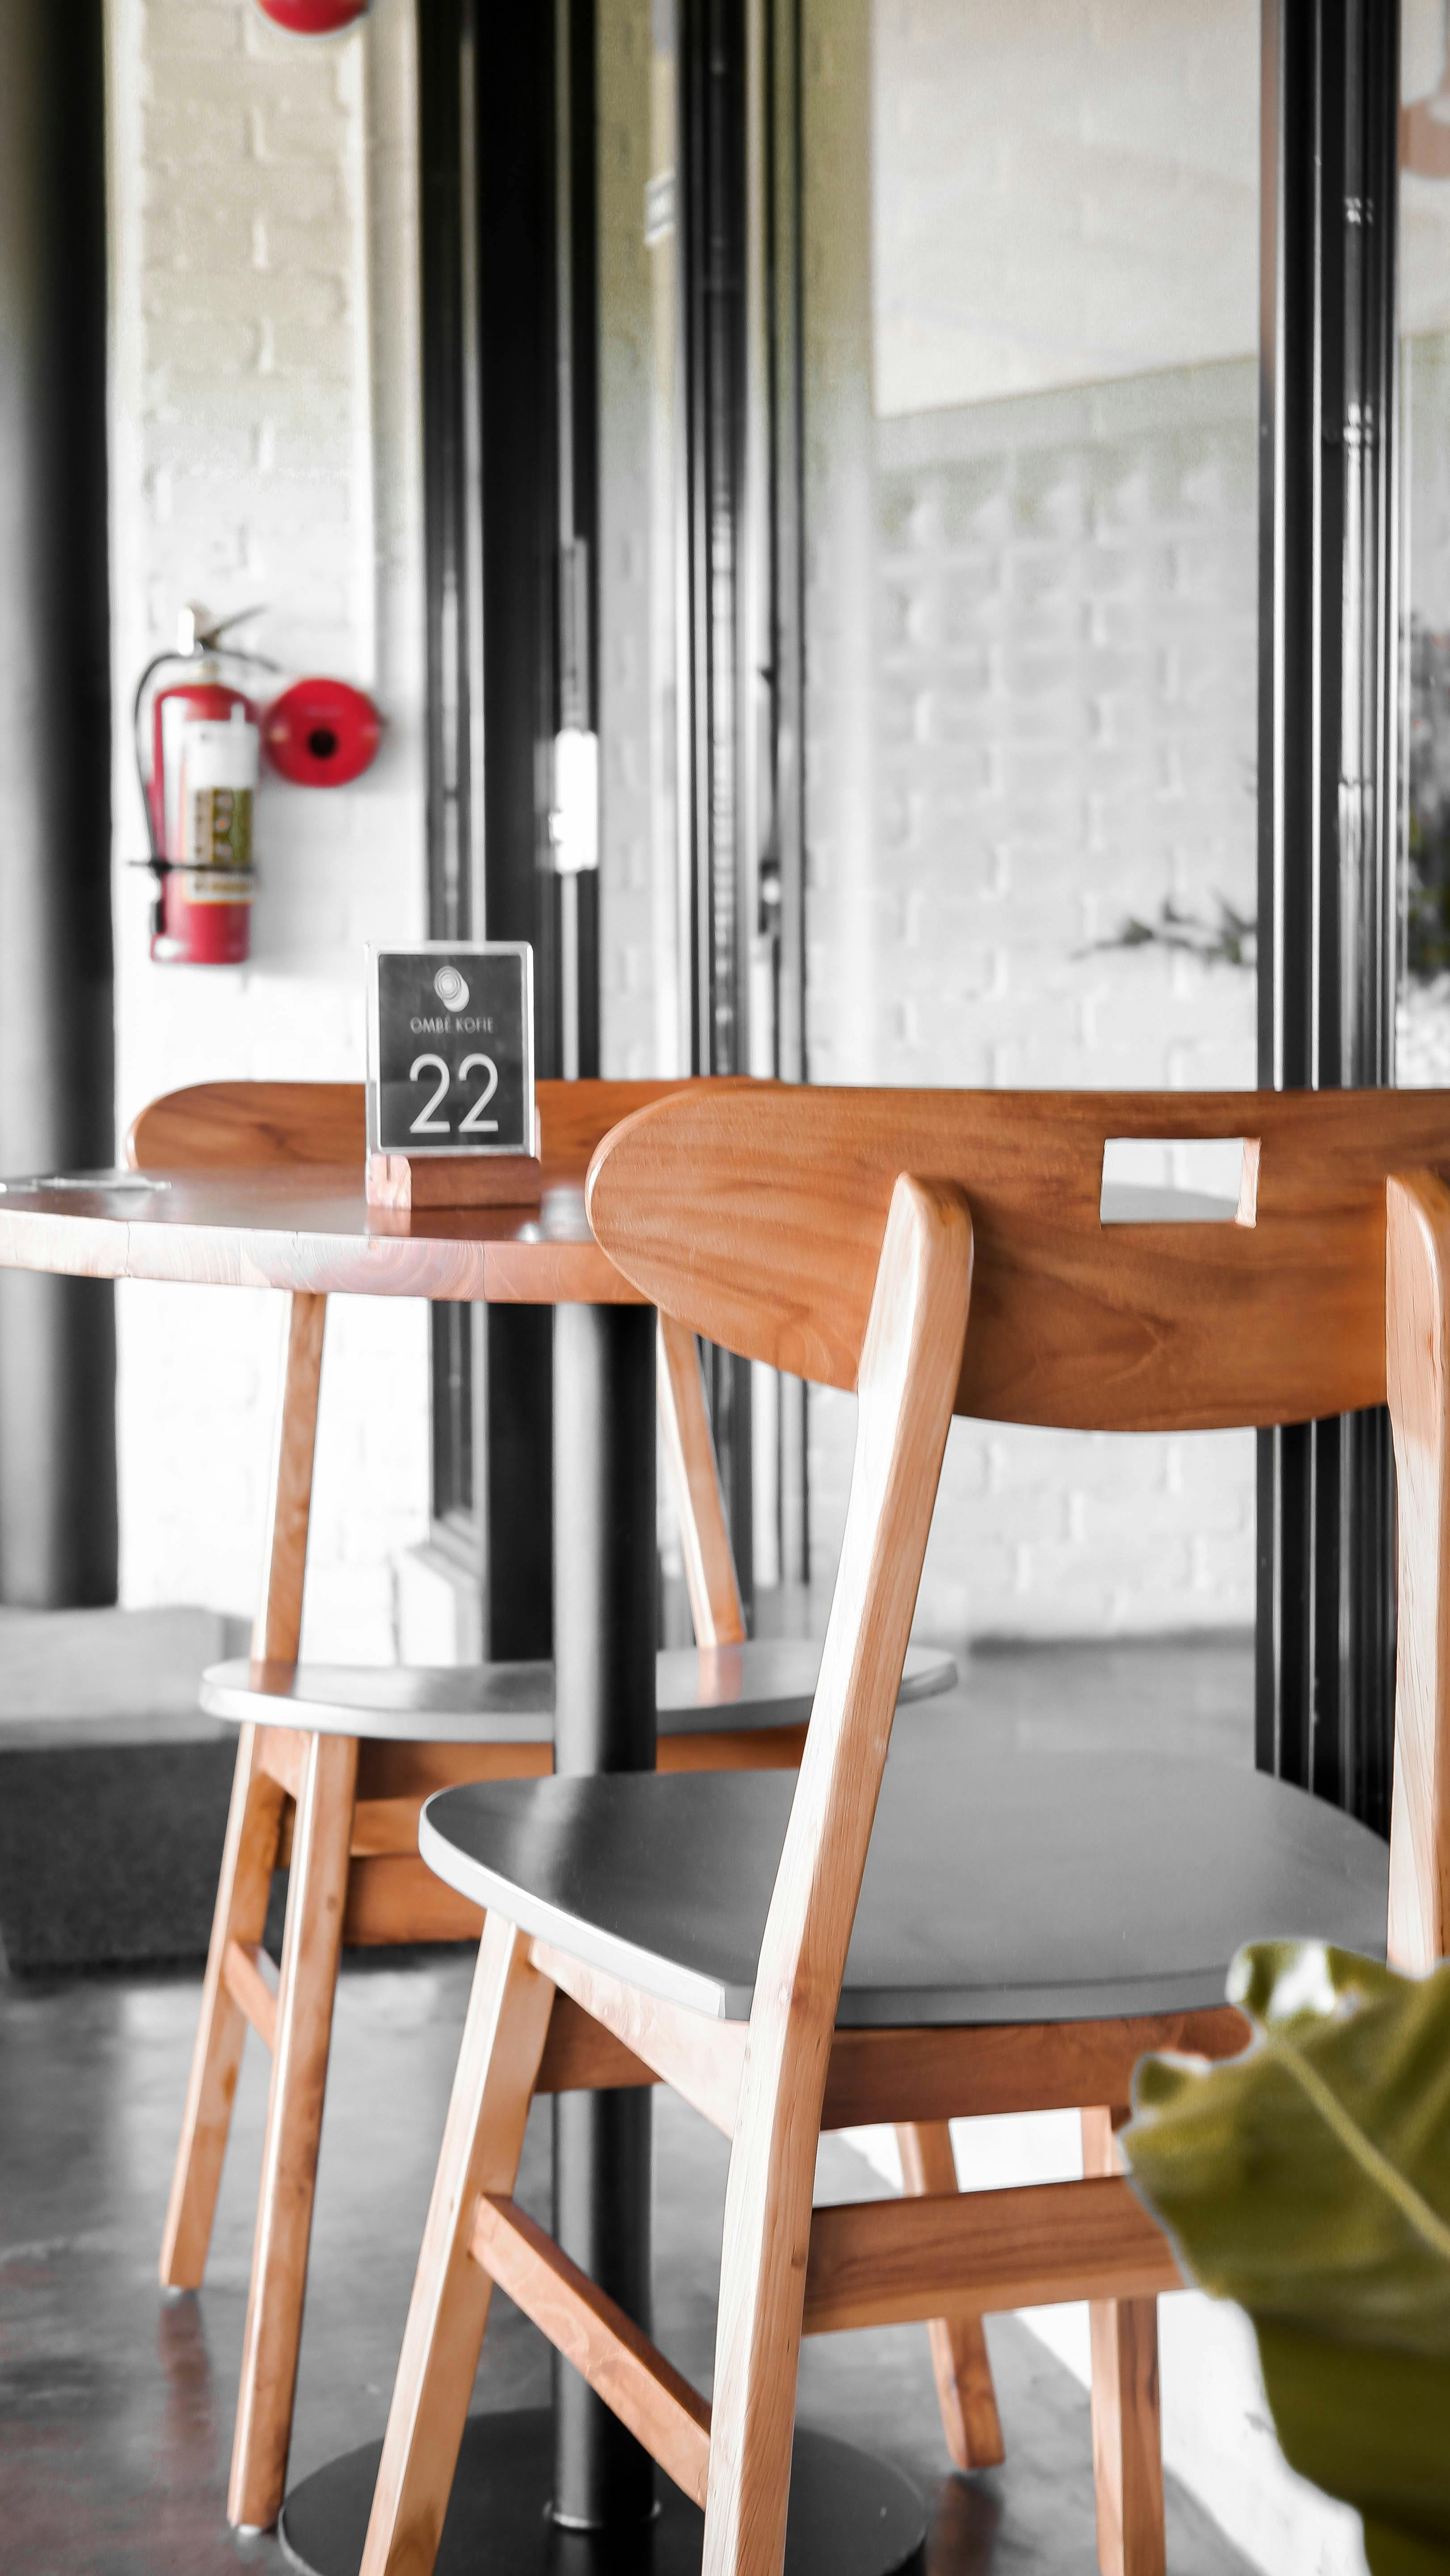extintor: (122, 582, 282, 977)
